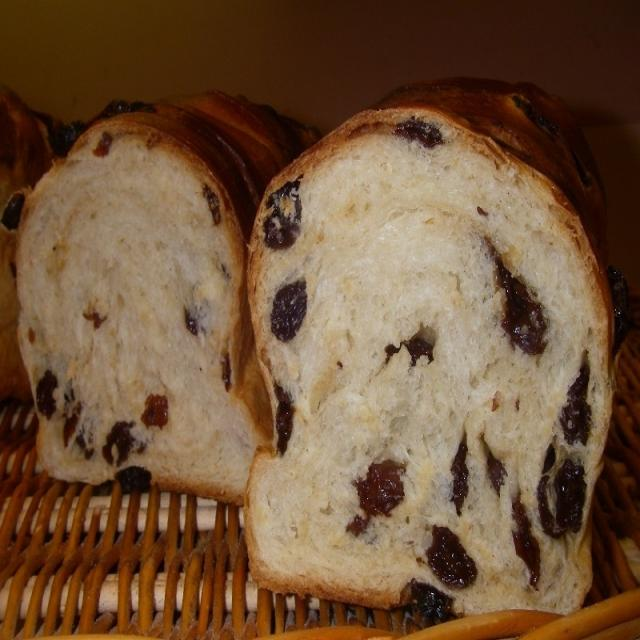面包点心: (0, 75, 640, 612)
